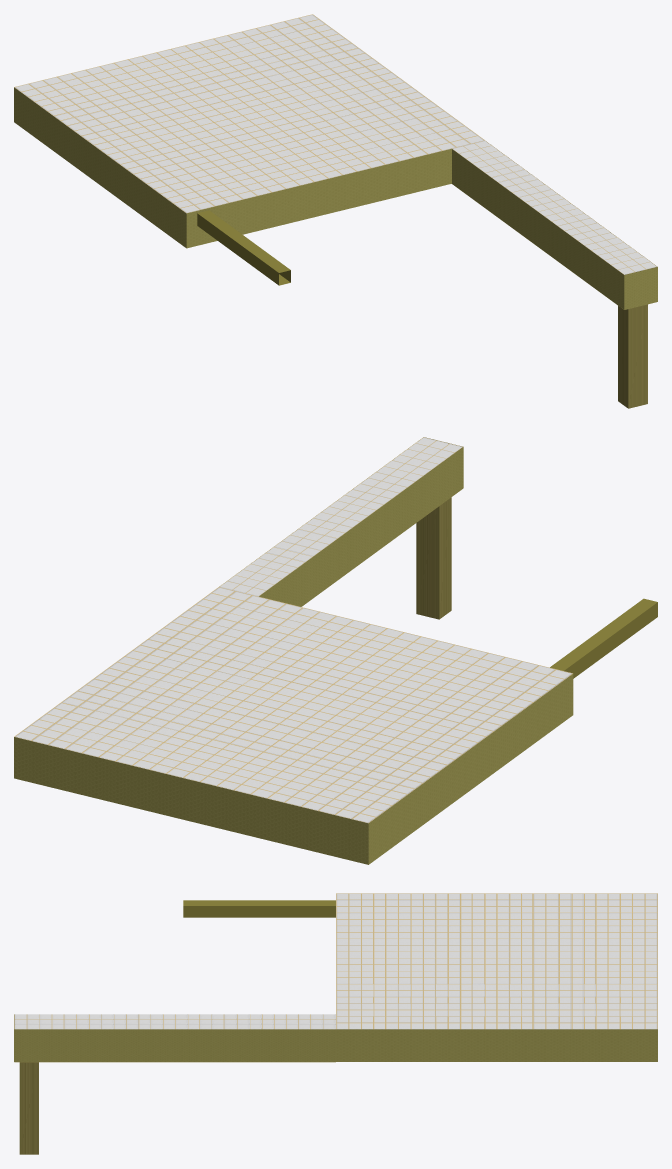
Rendered from backrooms_map_packed_blender_3.2.0.glb.
The picture shows the model from 3 angles, top to bottom: view 1: azimuth 30°, elevation 25°; view 2: azimuth 150°, elevation 25°; view 3: azimuth 270°, elevation 25°; orthographic projection. The views are drawn at different scales.
Parts seen in each view (by area): view 1: Celing_3, Big Square_Wall Paper_15, Celing.001_4, Short Hallway_Wall Paper_11, Hallway Celing_8, Hallway Carpet_7, Vent All Sizes_14, Hallway Celing.002_9; view 2: Celing_3, Big Square_Wall Paper_15, Celing.001_4, Hallway Celing_8, Short Hallway_Wall Paper_11, Hallway Carpet_7, Vent All Sizes_14, Hallway Celing.002_9; view 3: Celing_3, Celing.001_4, Short Hallway_Wall Paper_11, Big Square_Wall Paper_15, Hallway Celing_8, Vent All Sizes_14, Hallway Carpet_7, Hallway Celing.002_9.
Part boxes in pixels (x1,y1,x2,y2): Celing_3: (15,14,484,212); Big Square_Wall Paper_15: (14,87,451,248); Celing.001_4: (14,14,484,213); Short Hallway_Wall Paper_11: (452,149,657,309); Hallway Celing_8: (452,140,656,274); Hallway Carpet_7: (455,186,647,408); Vent All Sizes_14: (197,210,290,285); Hallway Celing.002_9: (452,141,657,274); Celing_3: (15,587,571,822); Big Square_Wall Paper_15: (14,674,573,864); Celing.001_4: (14,587,572,823); Hallway Celing_8: (220,437,461,596); Short Hallway_Wall Paper_11: (219,437,463,606); Hallway Carpet_7: (303,492,457,619); Vent All Sizes_14: (550,598,657,678); Hallway Celing.002_9: (219,437,462,596); Celing_3: (336,893,657,1029); Celing.001_4: (336,893,657,1029); Short Hallway_Wall Paper_11: (14,1014,335,1061); Big Square_Wall Paper_15: (336,1029,657,1061); Hallway Celing_8: (14,1014,335,1029); Vent All Sizes_14: (183,900,335,917); Hallway Carpet_7: (14,1062,335,1154); Hallway Celing.002_9: (14,1014,335,1029).
Bounding box in the file's own units: 44.79 × 19.71 × 89.59.
8 materials, 3 textured.
